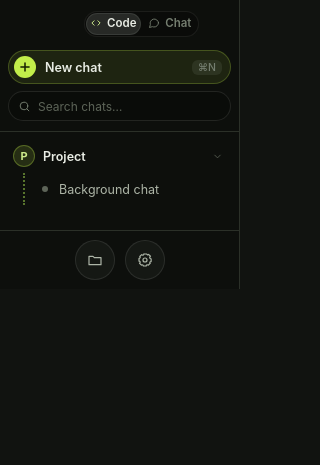
Test: context menu targets › unlocks Reveal chat file only once the chat has a saved session
Right-click the button "Background chat" at (99, 189), box left=38, top=182, right=159, bottom=196
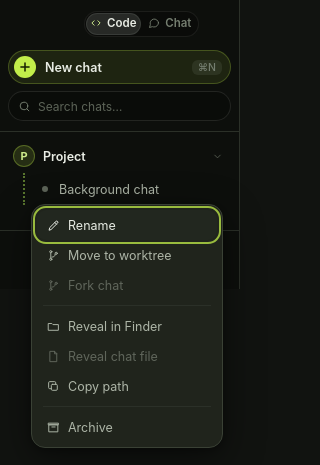
Result: the menu item "Reveal chat file" is disabled at left=37, top=341, right=217, bottom=371
